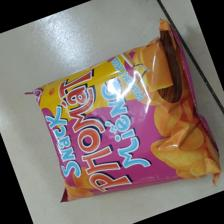Oishi_phomat: (24, 16, 222, 207)
